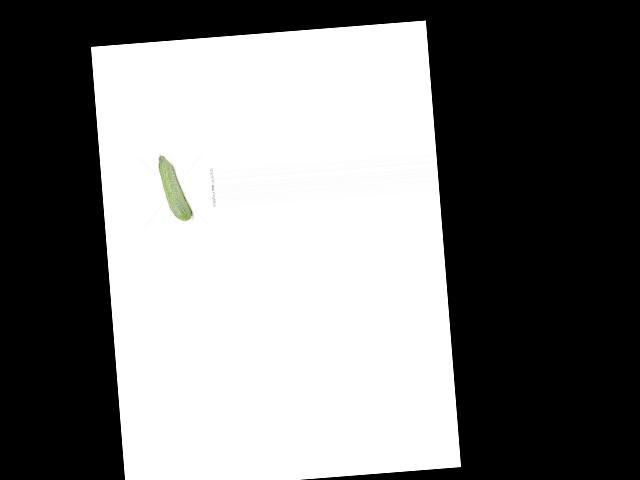cucumber: (158, 152, 192, 222)
